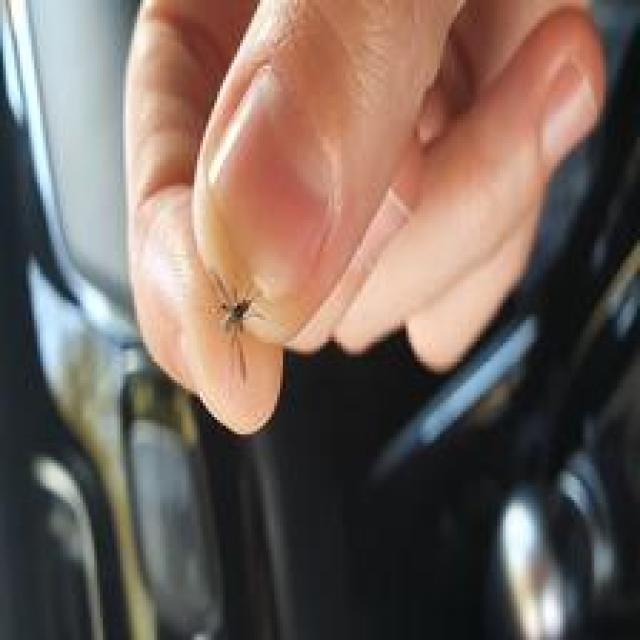Aedes albopictus: (203, 268, 268, 383)
